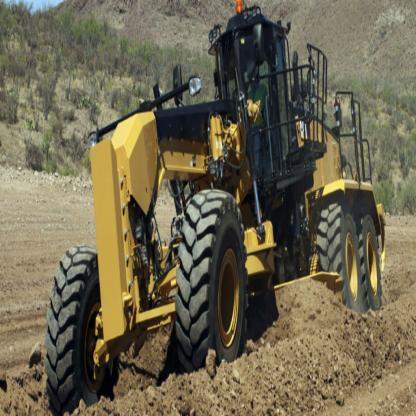bull_dozer/loader/grader: (38, 4, 390, 415)
